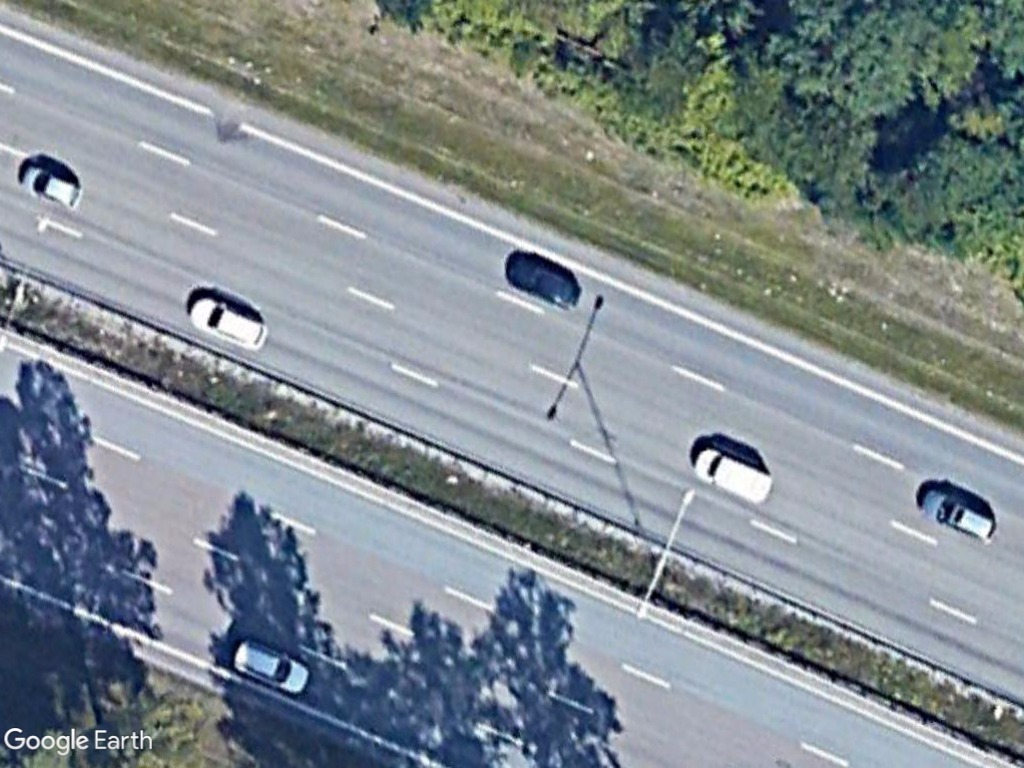car: (179, 290, 275, 358), (499, 247, 588, 315), (225, 633, 316, 699), (916, 482, 1005, 547), (12, 154, 93, 214)
van: (688, 437, 781, 511)
